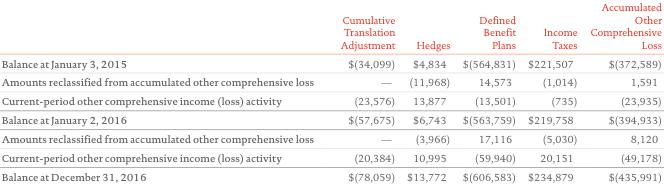table: (0, 0, 661, 182)
table column: (0, 0, 326, 182), (583, 0, 661, 182), (326, 0, 400, 182), (455, 0, 520, 182), (520, 0, 583, 182), (400, 0, 455, 182)
table column header: (0, 0, 661, 53)
table row: (0, 0, 661, 53), (0, 53, 661, 72), (0, 72, 661, 91), (0, 91, 661, 110), (0, 110, 661, 129), (0, 147, 661, 166), (0, 129, 661, 147), (0, 166, 661, 182)
